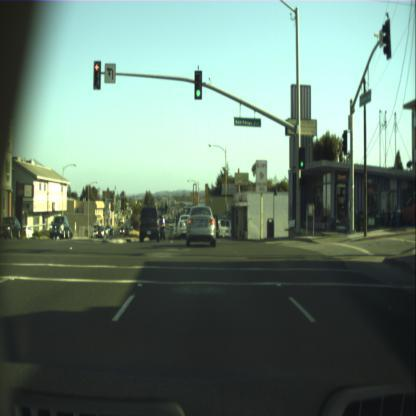Green: (194, 69, 202, 100), (298, 146, 305, 170)
RedLeft: (92, 60, 100, 90)
